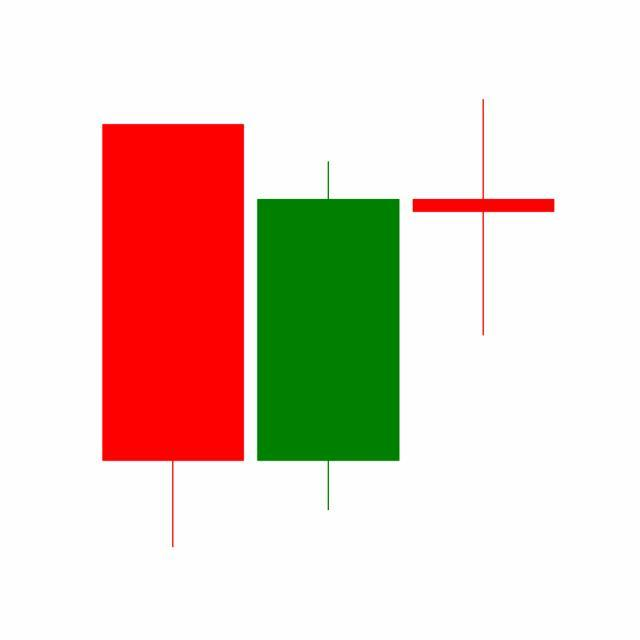Spinning Top: (406, 96, 562, 339)
